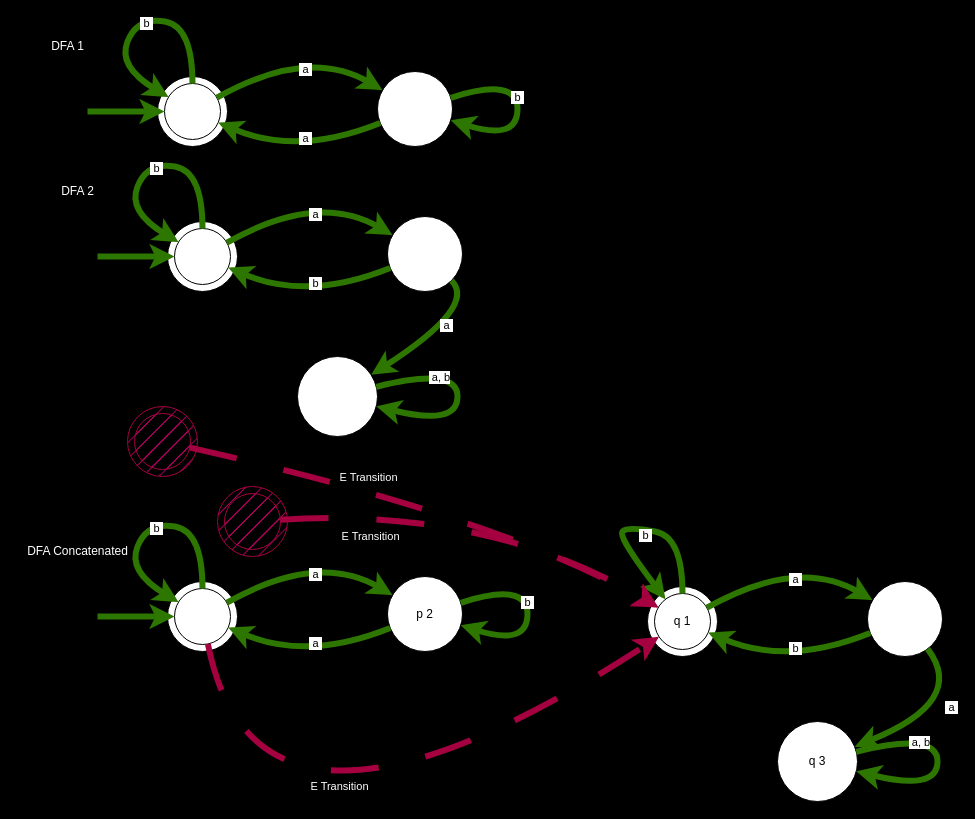
Image size: 975x819. Some labels were removed from this diagram. The centre of each missing label's shape, as x and y in pixels:
"p 1" belongs at (202,616).
"q 2" belongs at (904,618).
